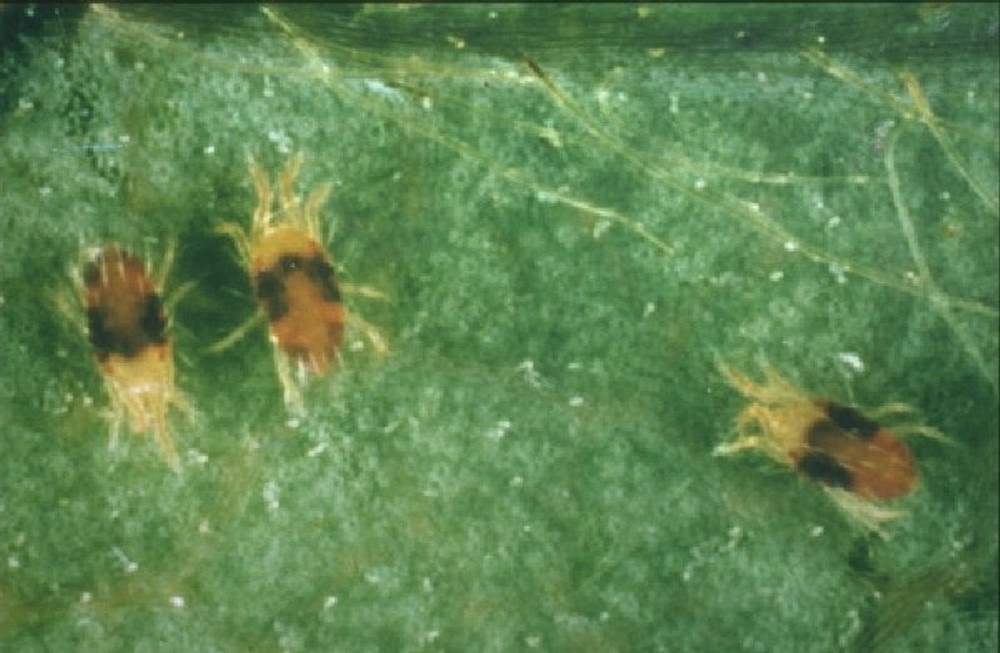Aracnido Rojo: (197, 138, 407, 438), (695, 338, 973, 560), (43, 223, 204, 469)
